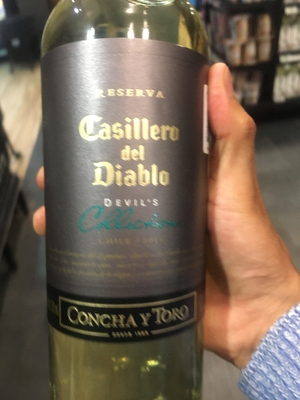casillero del diablo devils collection verde: (41, 19, 216, 397)
